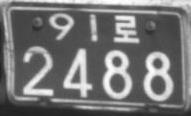1: (82, 13, 106, 42)
2: (22, 45, 53, 97)
4: (62, 48, 92, 97)
8: (142, 50, 173, 102), (102, 49, 132, 99)
9: (49, 12, 75, 40)
로: (113, 14, 139, 44)
